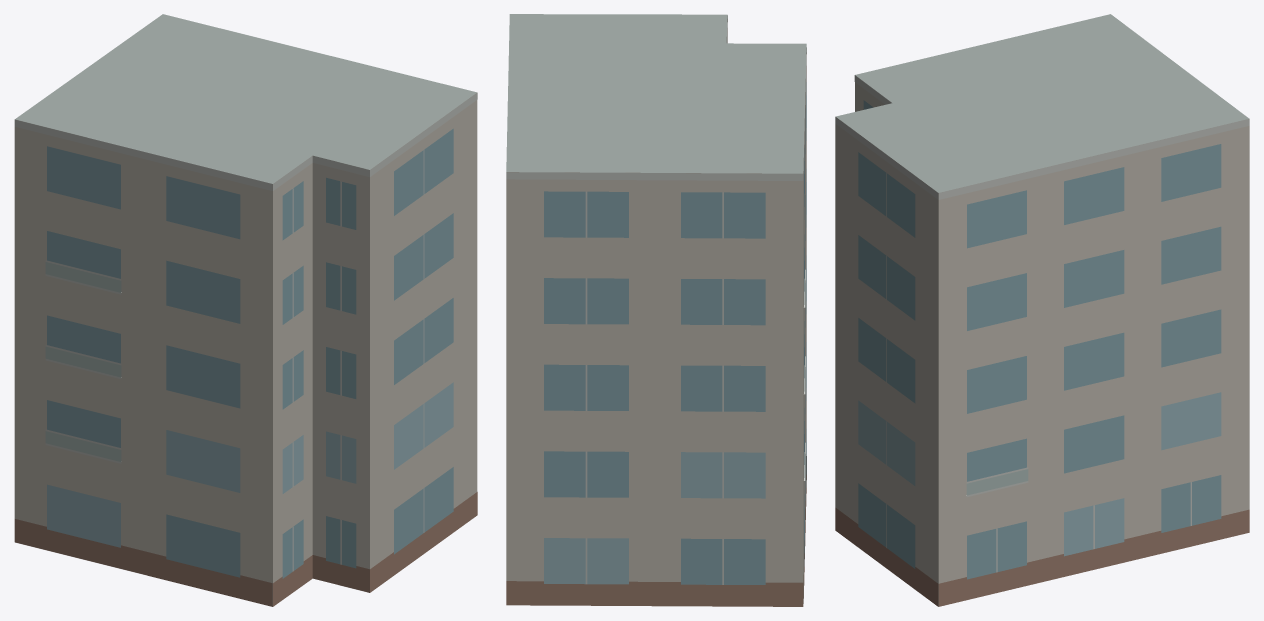
The model's file is survey-upis-32721113.glb.
3 views of the same model, side by side, from view 1: azimuth 30°, elevation 25°; view 2: azimuth 150°, elevation 25°; view 3: azimuth 270°, elevation 25° (orthographic). The views are drawn at different scales.
Visible parts, largest first — view 1: survey-upis-32721113.tmp; view 2: survey-upis-32721113.tmp; view 3: survey-upis-32721113.tmp.
Part boxes in pixels (x1,y1,x2,y2): survey-upis-32721113.tmp: (14,14,477,606); survey-upis-32721113.tmp: (506,14,806,606); survey-upis-32721113.tmp: (835,14,1249,606).
Bounding box in the file's own units: 13.27 × 14.3 × 12.98.
